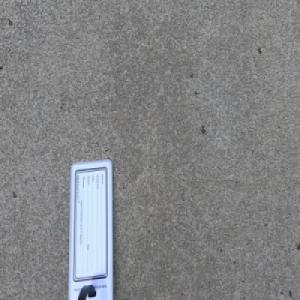LuggageTag: (67, 155, 116, 300)
